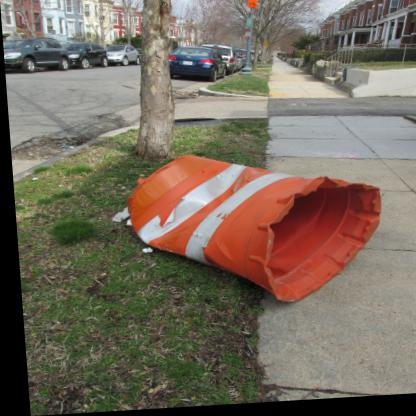obstacle: (107, 147, 400, 327)
